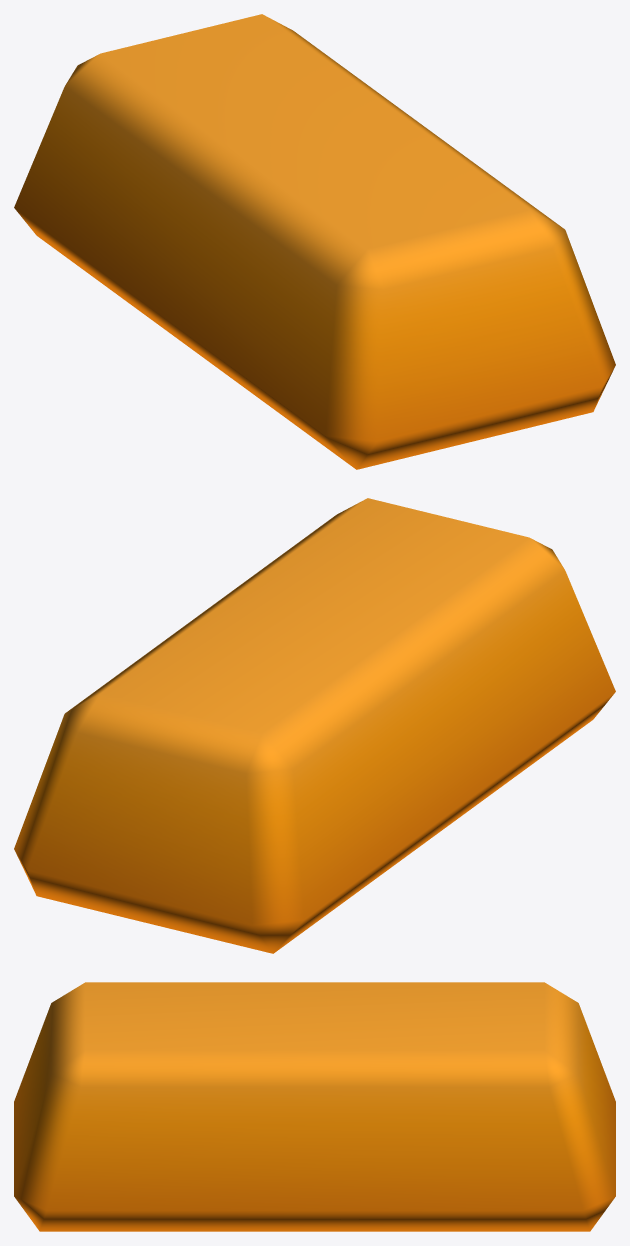
The model's file is Gold_Ingot_01.obj.
3 views of the same model, one above another, from view 1: azimuth 30°, elevation 25°; view 2: azimuth 150°, elevation 25°; view 3: azimuth 270°, elevation 25° (orthographic). The views are drawn at different scales.
Visible parts, largest first — view 1: Gold_Ingot_01; view 2: Gold_Ingot_01; view 3: Gold_Ingot_01.
Boxes of the visible parts, box(x1,y1,x2,y2) form: Gold_Ingot_01: box(14, 14, 615, 469); Gold_Ingot_01: box(14, 498, 615, 953); Gold_Ingot_01: box(14, 982, 615, 1231).
Bounding box in the file's own units: 0.1783 × 0.1129 × 0.372.
1 material, 1 textured.
